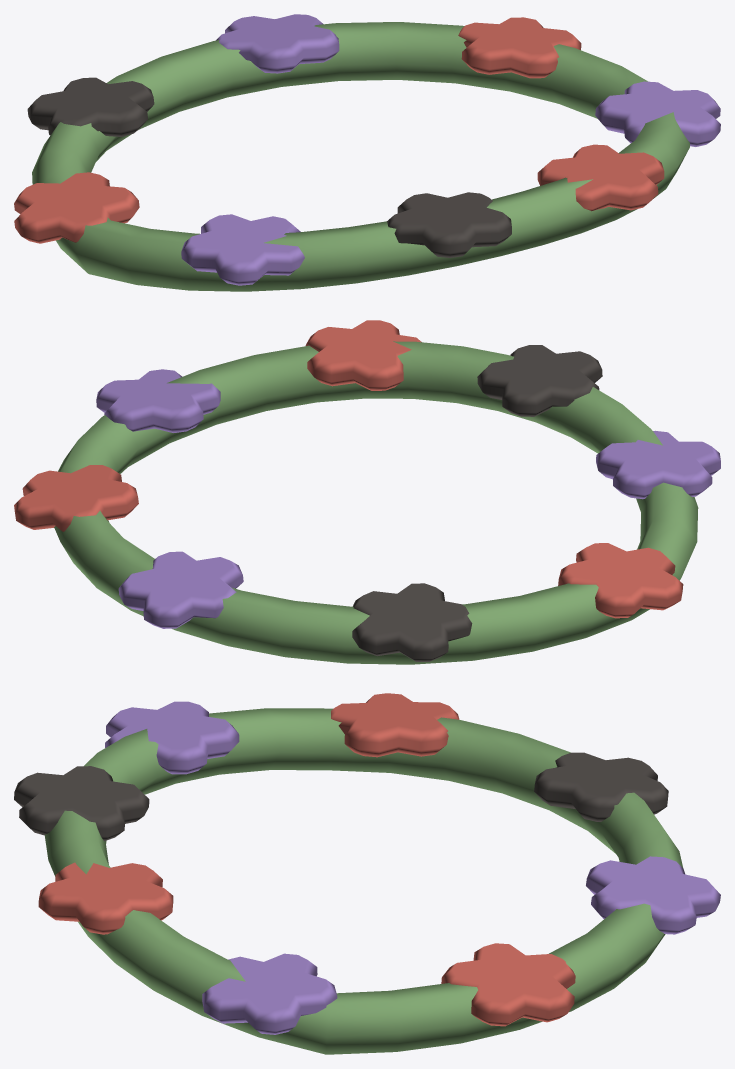
The model's file is chic_rose_crown.glb.
3 views of the same model, one above another, from view 1: azimuth 30°, elevation 25°; view 2: azimuth 150°, elevation 25°; view 3: azimuth 270°, elevation 25° (orthographic). The views are drawn at different scales.
Parts seen in each view (by area): view 1: chic_rose_crown_Head; view 2: chic_rose_crown_Head; view 3: chic_rose_crown_Head.
Boxes of the visible parts, x1,y1,x2,y2 form: chic_rose_crown_Head: (14, 14, 720, 291); chic_rose_crown_Head: (14, 320, 720, 664); chic_rose_crown_Head: (14, 693, 720, 1054).
Size of the model in its own units: 0.562 by 0.0754 by 0.5018.
